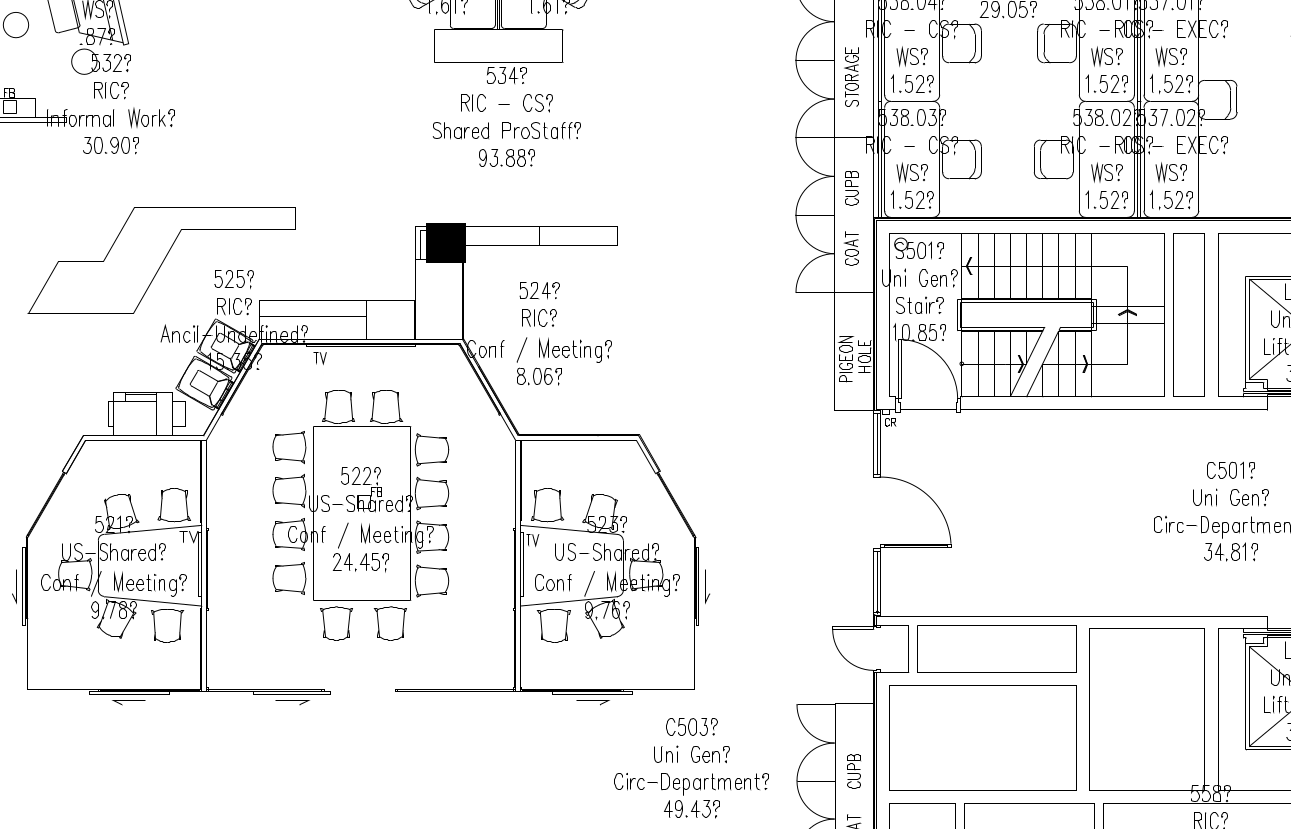door: (881, 472, 958, 555), (892, 338, 960, 418), (778, 699, 833, 782), (817, 614, 875, 679)
